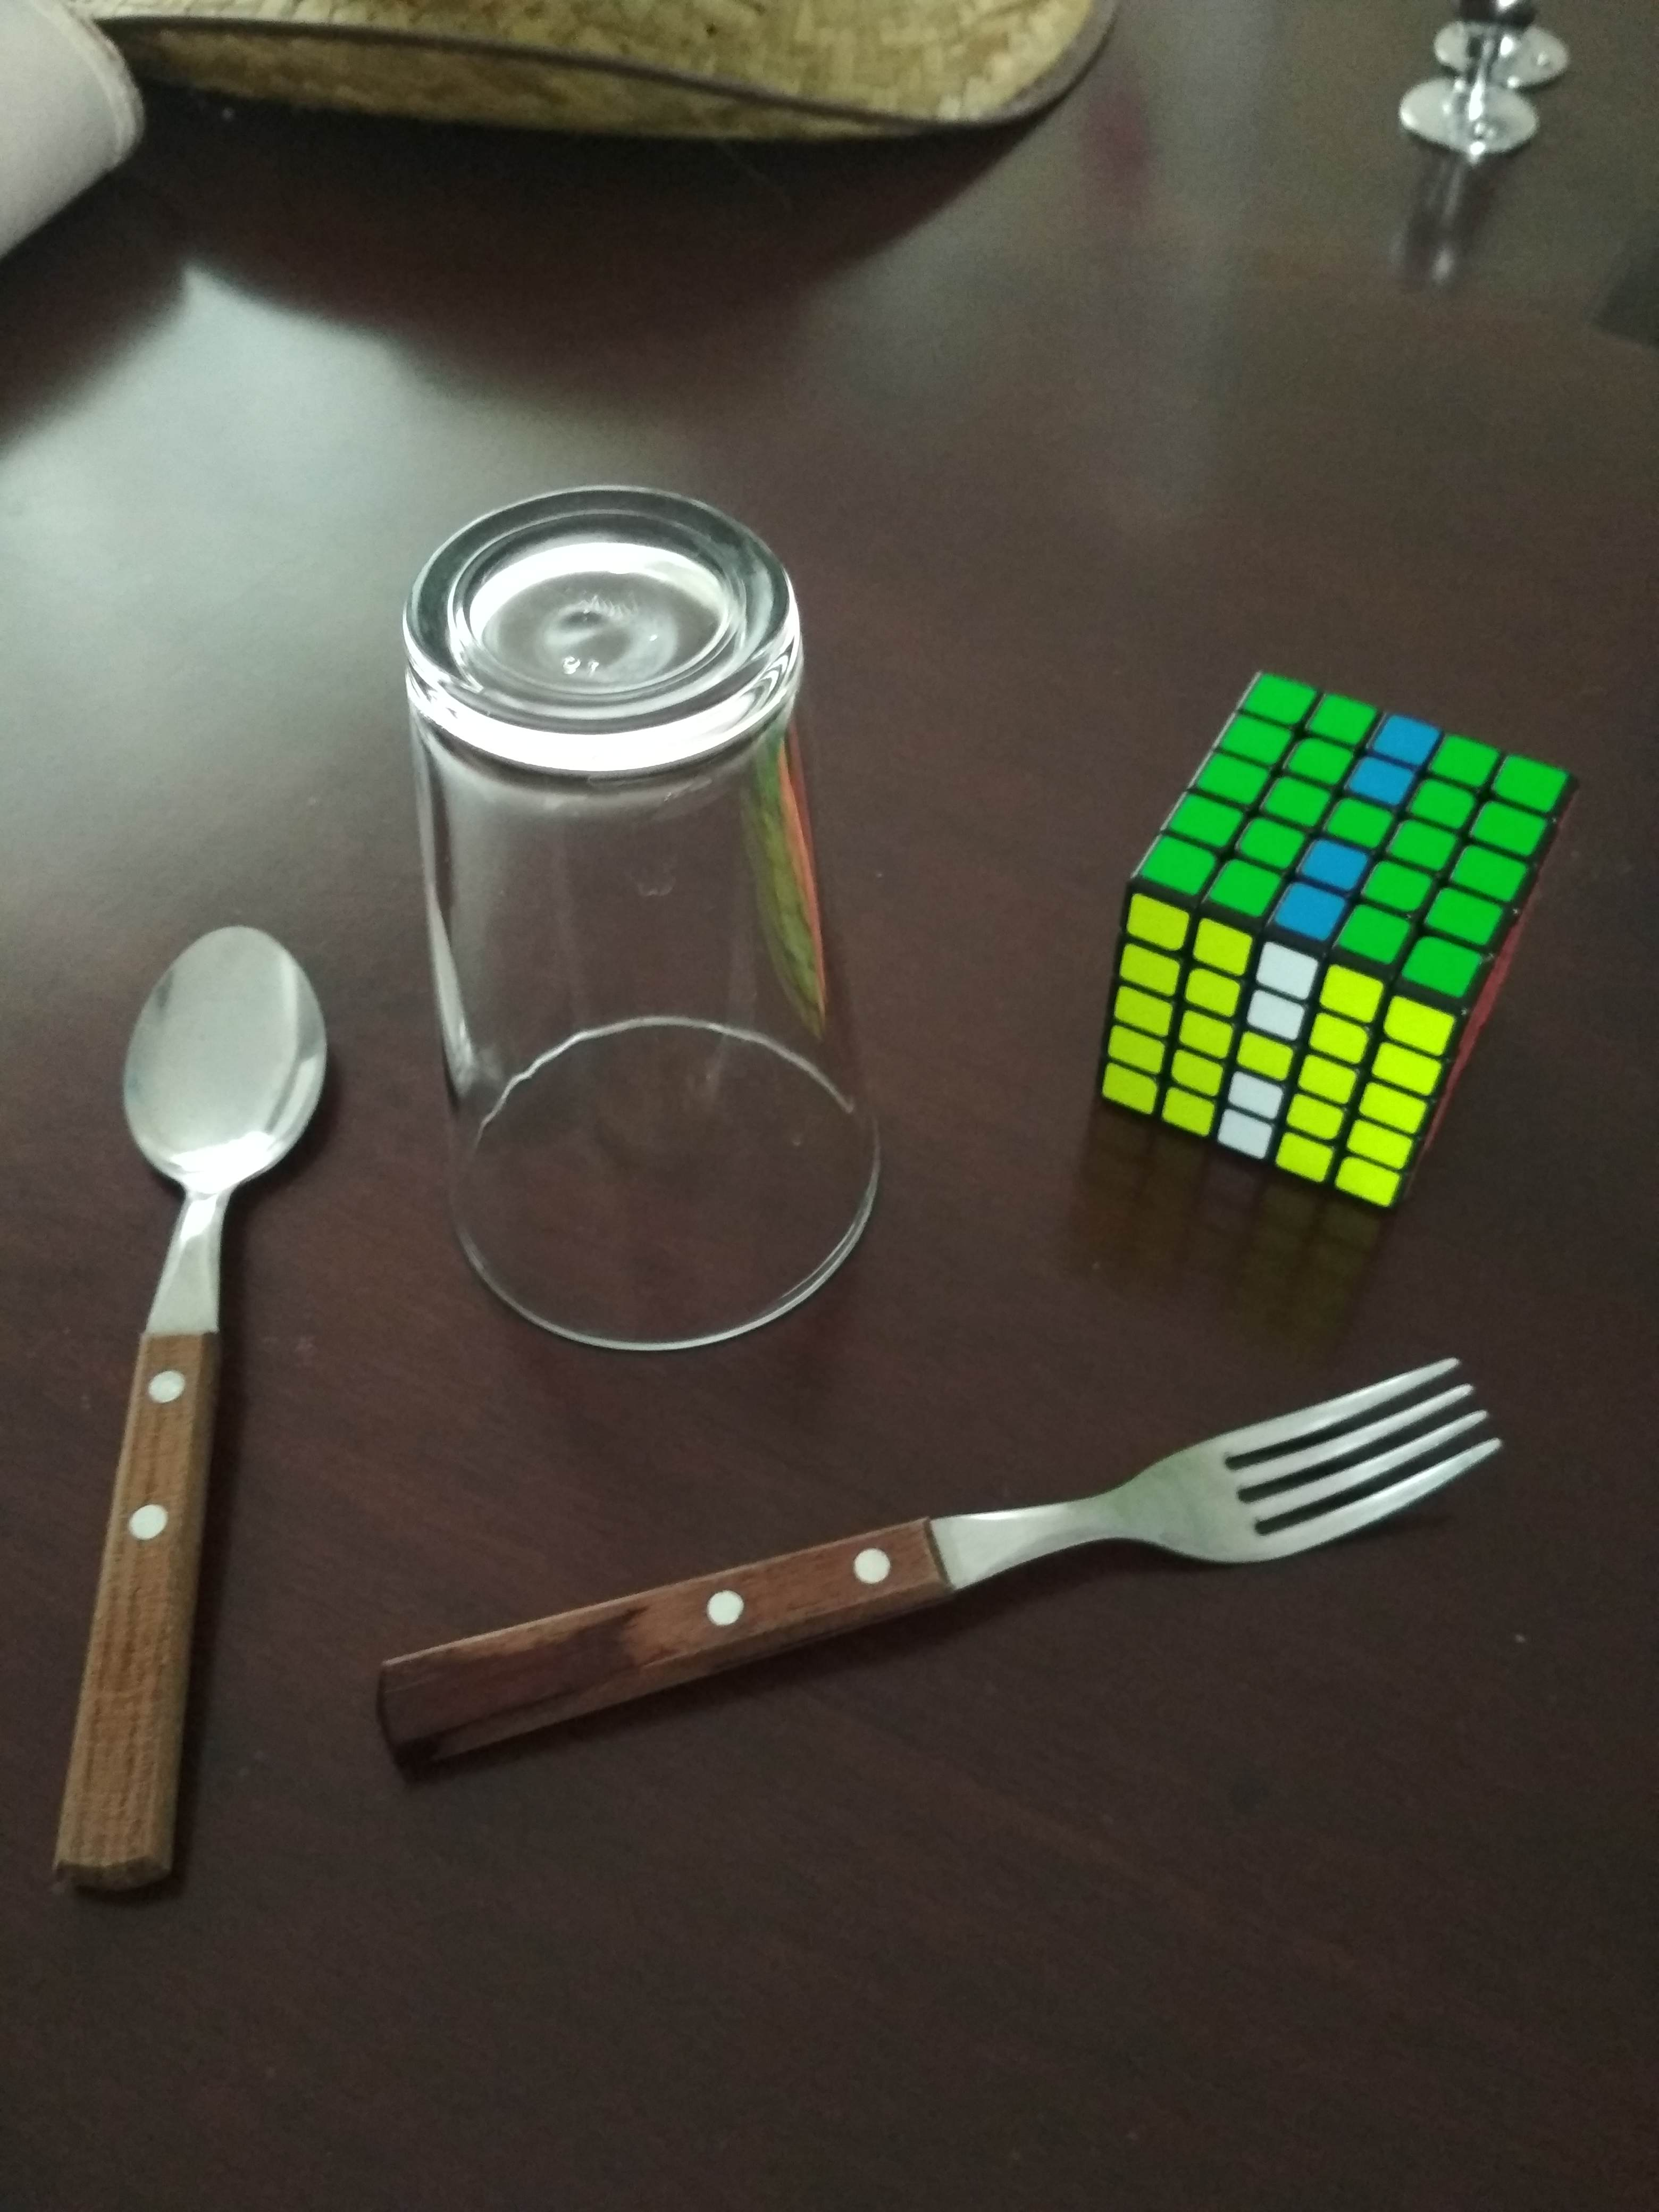fork: (359, 1325, 1511, 1803)
glass: (385, 469, 901, 1379)
rubik_cube: (1058, 646, 1596, 1238)
spoon: (17, 906, 352, 1912)
